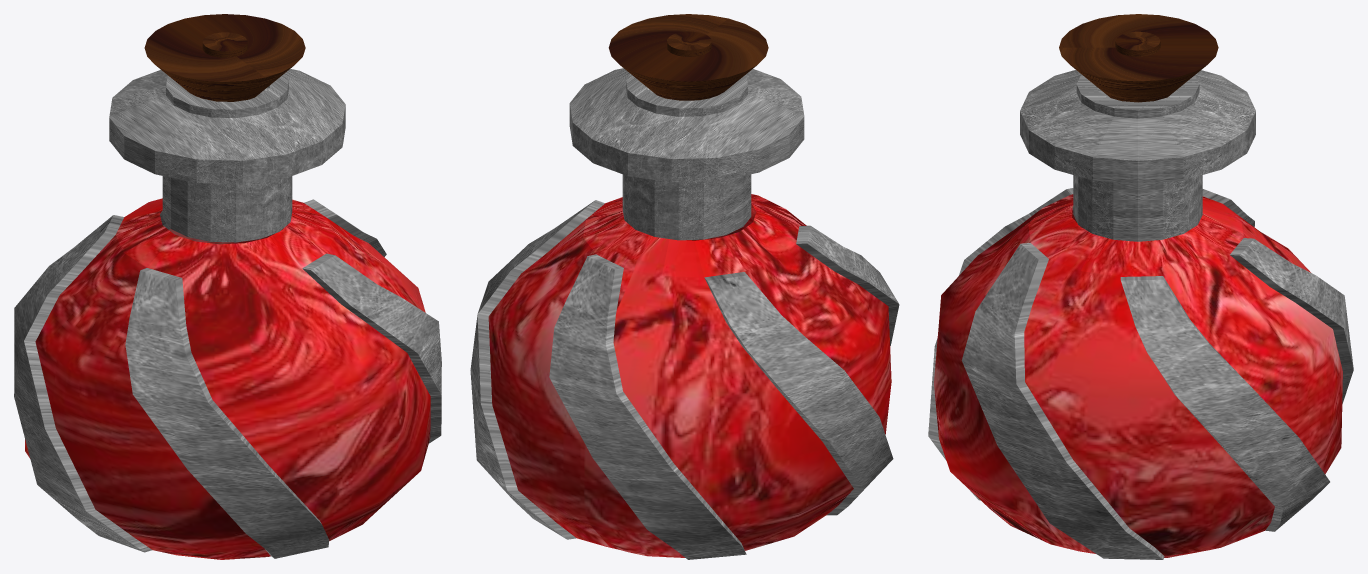
File: red potion 2.fbx
3 views of the same model, side by side, from view 1: azimuth 30°, elevation 25°; view 2: azimuth 150°, elevation 25°; view 3: azimuth 270°, elevation 25° (orthographic).
Parts seen in each view (by area): view 1: Cylinder001, Object001, Object002, Cone001, Cylinder002; view 2: Cylinder001, Object001, Object002, Cone001, Cylinder002; view 3: Cylinder001, Object001, Object002, Cone001, Cylinder002.
Part boxes in pixels (x1,y1,x2,y2): Cylinder001: [25, 198, 430, 559]; Object001: [14, 199, 441, 558]; Object002: [109, 69, 345, 242]; Cone001: [144, 14, 305, 101]; Cylinder002: [202, 32, 247, 57]; Cylinder001: [488, 194, 891, 557]; Object001: [470, 200, 899, 559]; Object002: [569, 68, 804, 240]; Cone001: [608, 14, 768, 100]; Cylinder002: [667, 31, 711, 56]; Cylinder001: [934, 194, 1342, 557]; Object001: [928, 188, 1353, 559]; Object002: [1020, 70, 1255, 241]; Cone001: [1059, 14, 1218, 102]; Cylinder002: [1115, 31, 1160, 56].
Size of the model in its own units: 80.4 by 79.8 by 96.29.
Materials: 3 (3 with a texture image).
